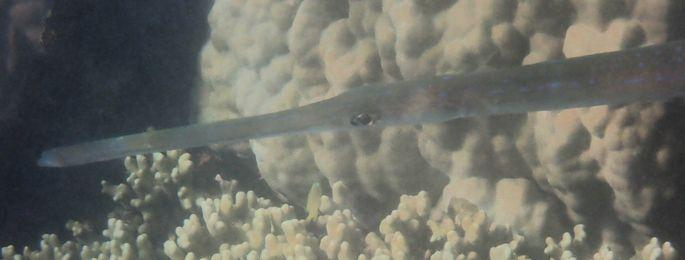Fistularia commersonii: (4, 35, 685, 249)
